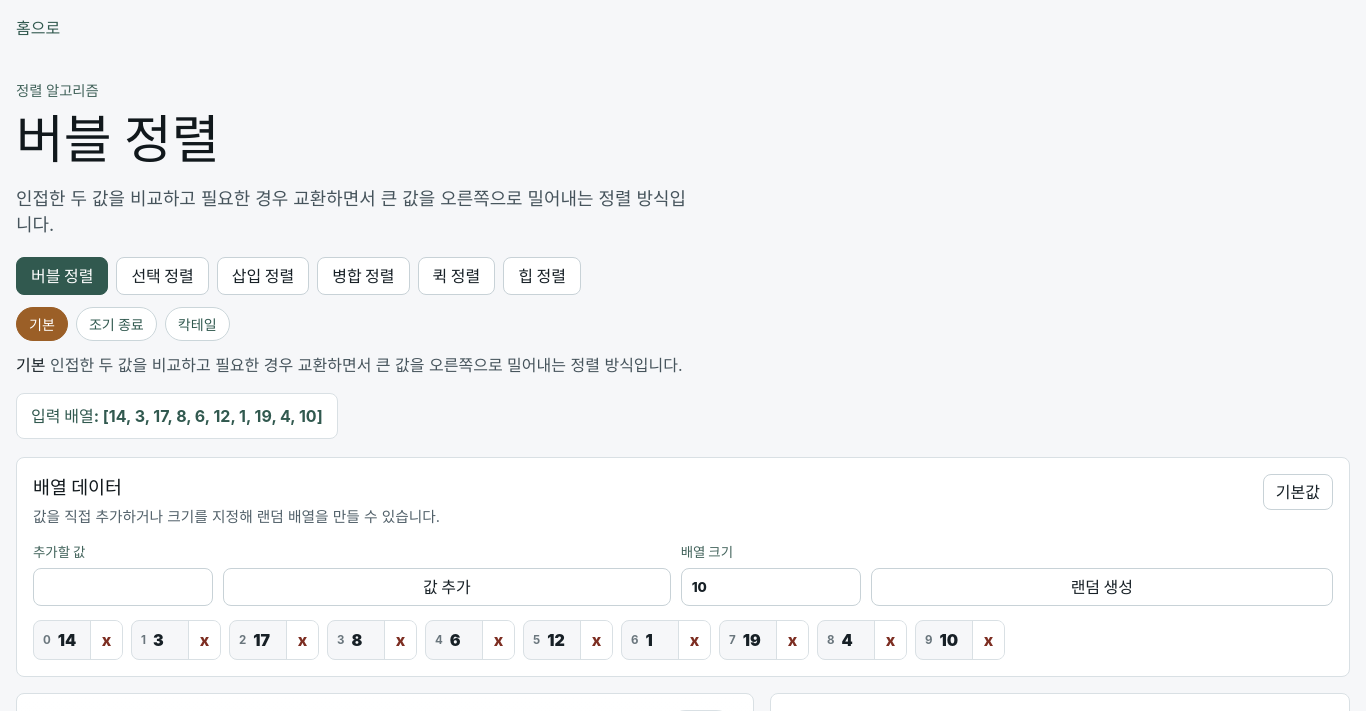
it: SortingPage › switches to Insertion Sort with synchronized code highlighting
The width and height of the screenshot is (1366, 711).
Click the tab "삽입 정렬" at x=263, y=276, box [217,257,309,295]
(page scrolled)
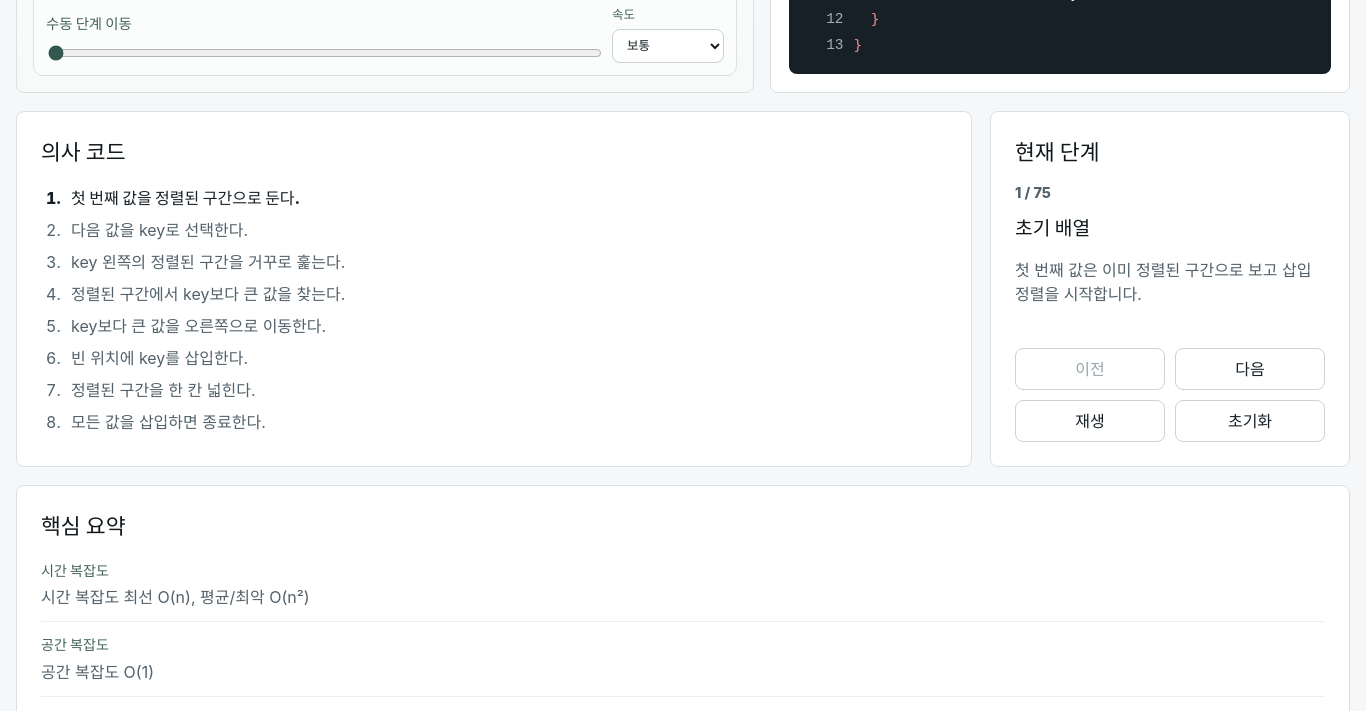
Expected: the heading "초기 배열" is shown, [1015,216,1090,240]
Click the button "다음" below "첫 번째 값은 이미 정렬된 구간으로 보고 삽입 정렬을 시작합니다." at x=1250, y=369, box [1175,348,1325,390]
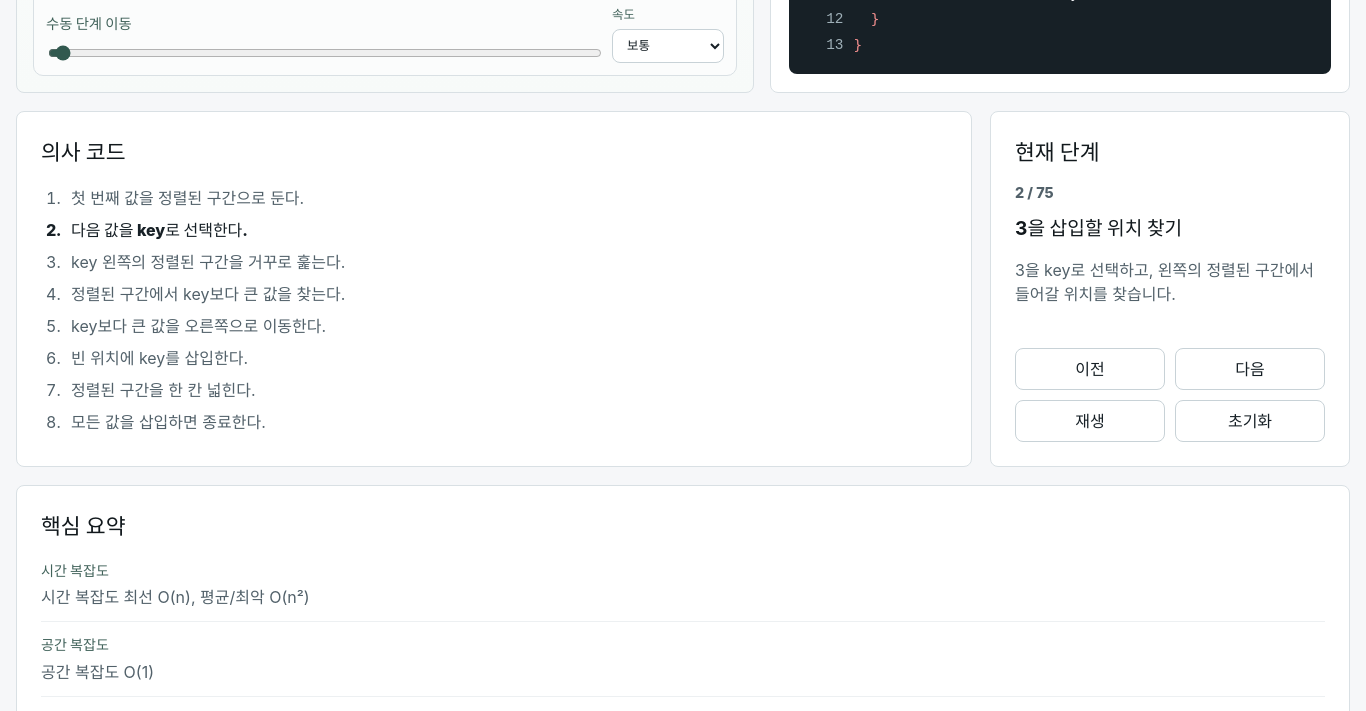
Now the heading "3을 삽입할 위치 찾기" is shown, box [1015,216,1182,240]
Click the button "다음" below "3을 key로 선택하고, 왼쪽의 정렬된 구간에서 들어갈 위치를 찾습니다." at x=1250, y=369, box [1175,348,1325,390]
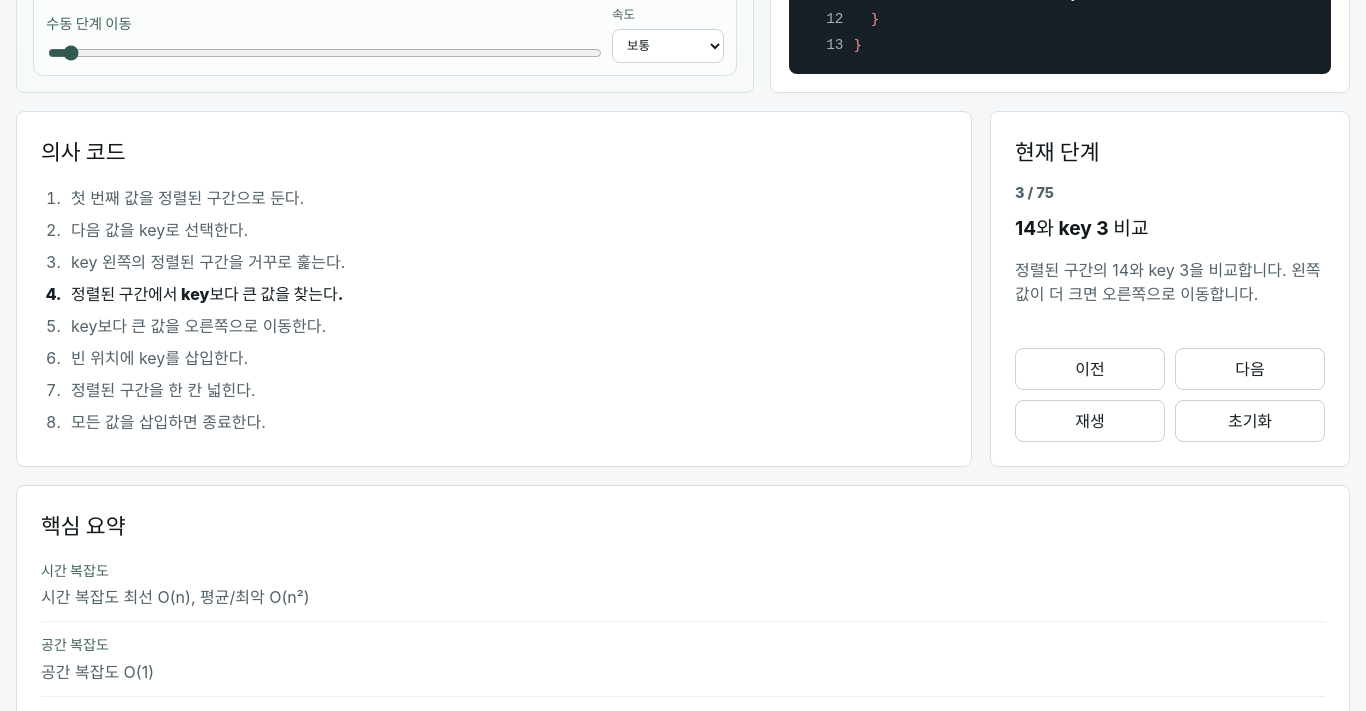
Now the heading "14와 key 3 비교" is shown, box [1015,216,1149,240]
